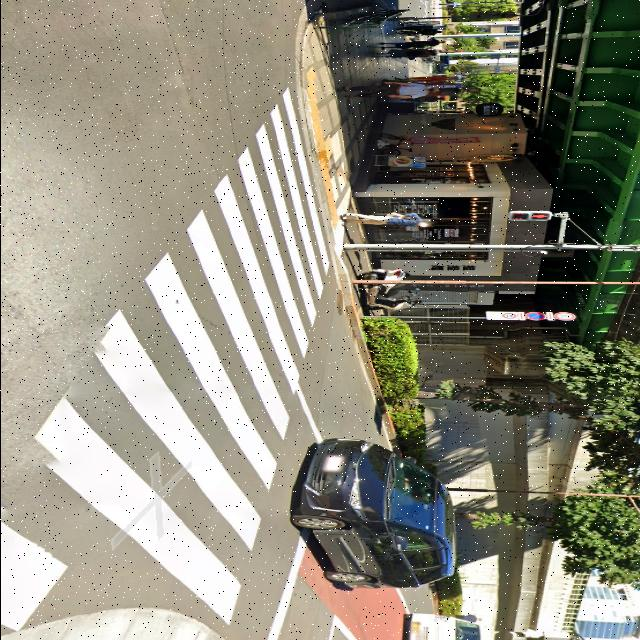traffic-light: (512, 211, 550, 221)
